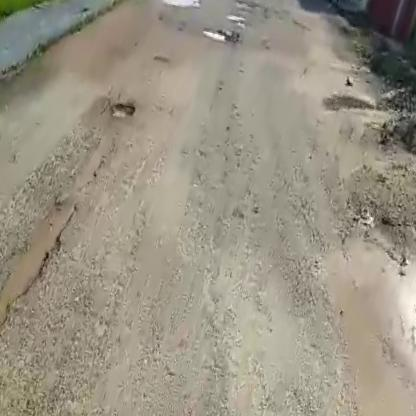pothole: (200, 24, 240, 51), (107, 97, 139, 125), (148, 0, 204, 11)
